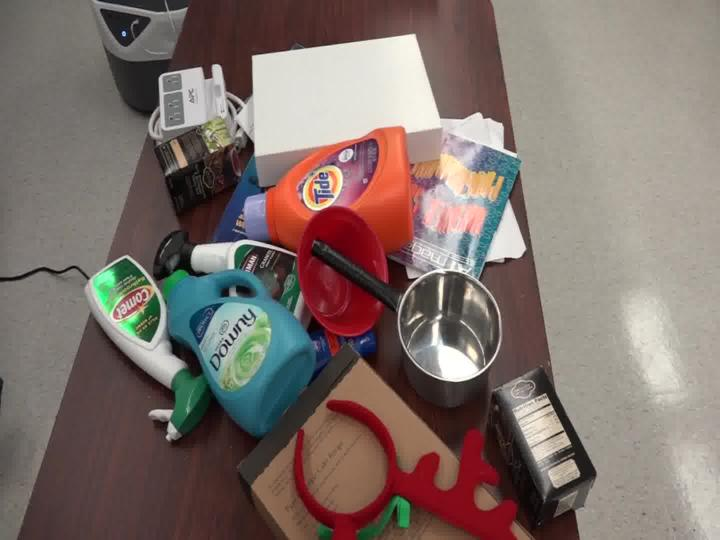tide: (226, 111, 428, 271)
